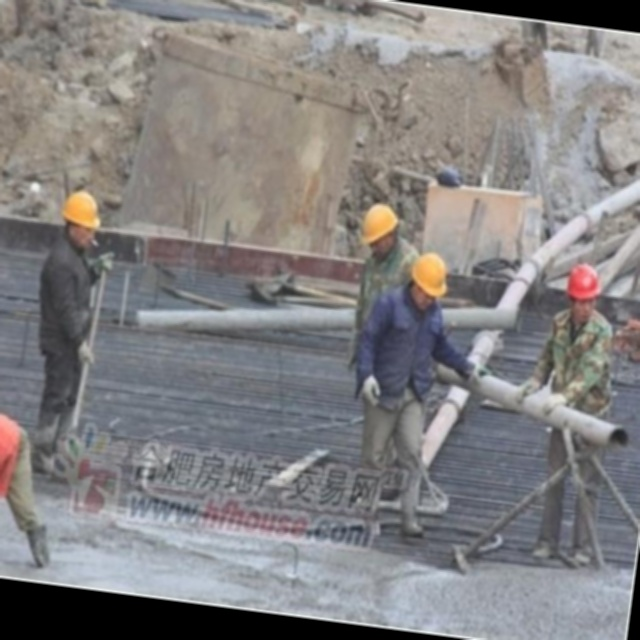Con_Casco: (60, 187, 103, 247), (564, 260, 602, 320)
